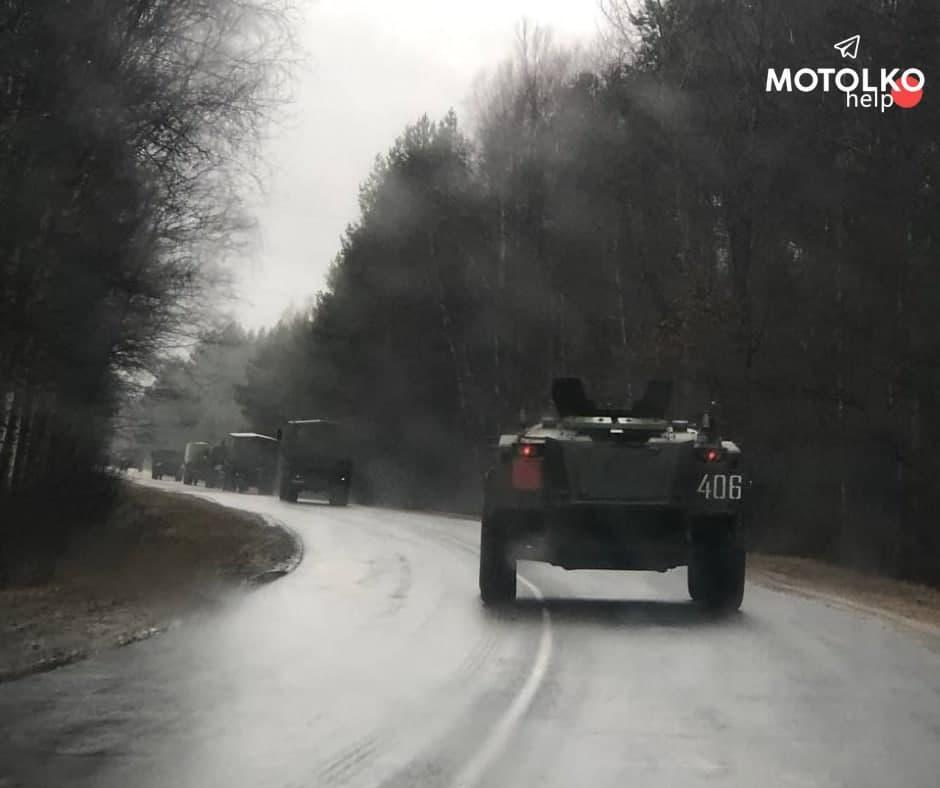tank: (486, 400, 734, 598)
truck: (277, 421, 357, 509), (214, 426, 279, 499), (182, 436, 216, 503), (151, 440, 189, 492)
